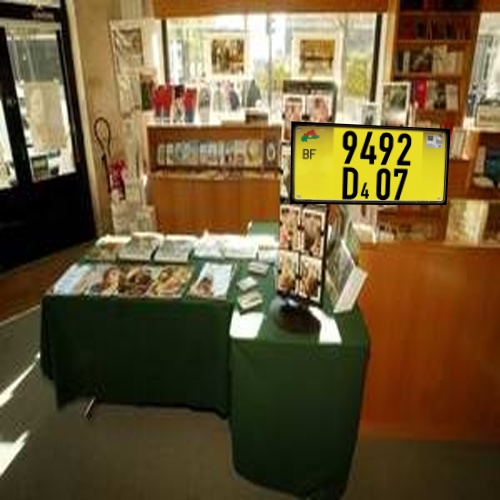plate: (275, 110, 461, 230)
